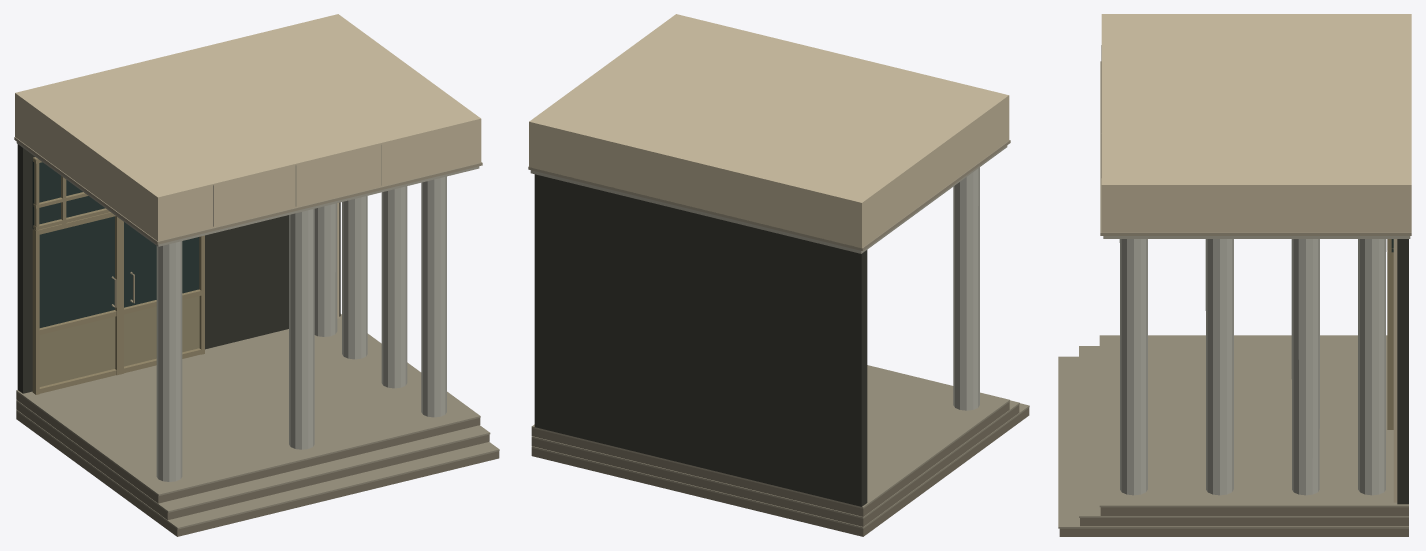
File: yangpu-tongji-wenyuan-entrance-canopy-lod.glb
3 views of the same model, side by side, from view 1: azimuth 30°, elevation 25°; view 2: azimuth 150°, elevation 25°; view 3: azimuth 270°, elevation 25° (orthographic). The views are drawn at different scales.
Visible parts, largest first — view 1: 同济大学文远楼正门雨篷与三柱门廊; view 2: 同济大学文远楼正门雨篷与三柱门廊; view 3: 同济大学文远楼正门雨篷与三柱门廊.
Boxes of the visible parts, x1,y1,x2,y2 form: 同济大学文远楼正门雨篷与三柱门廊: (14,14,499,536); 同济大学文远楼正门雨篷与三柱门廊: (528,14,1029,536); 同济大学文远楼正门雨篷与三柱门廊: (1058,14,1411,536).
Size of the model in its own units: 4.54 by 4.34 by 3.94.
